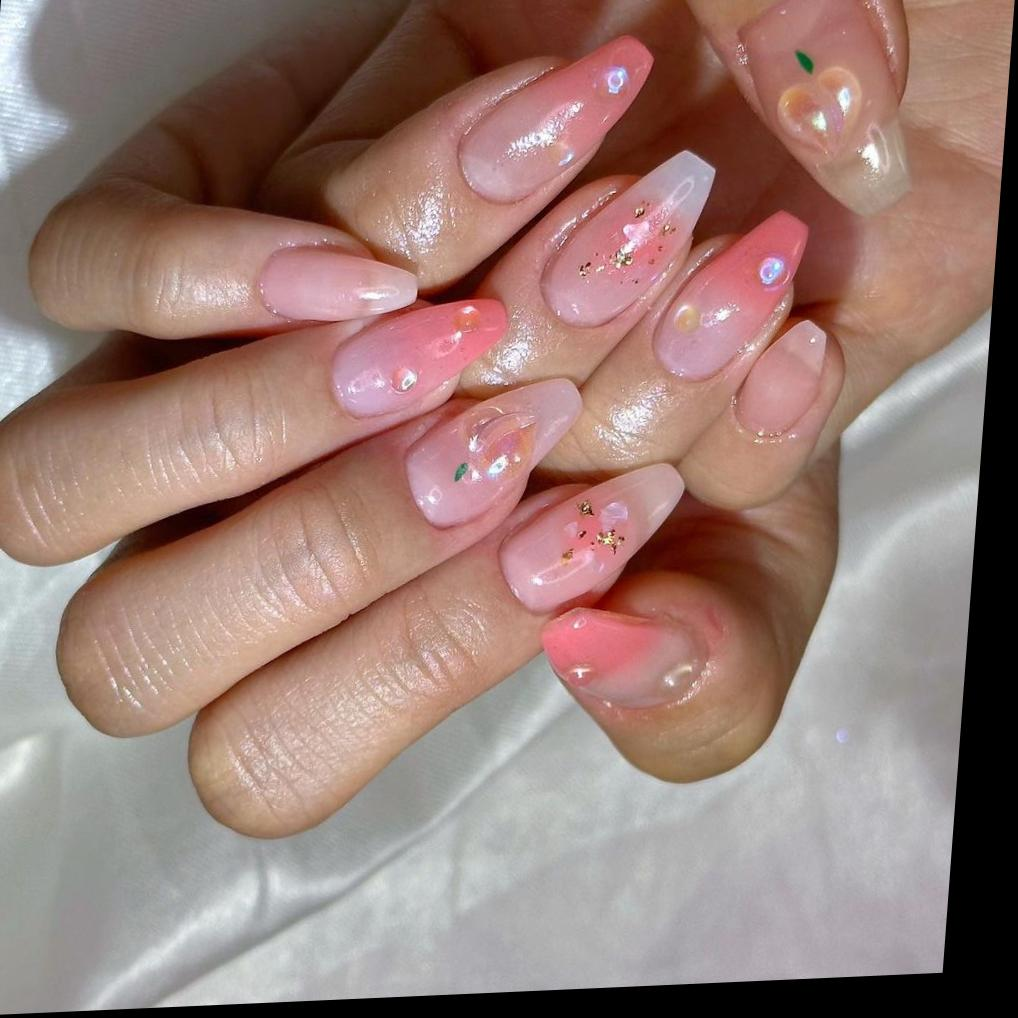nail: (719, 0, 926, 222), (453, 32, 657, 206), (536, 146, 719, 331), (494, 461, 688, 615), (398, 375, 586, 531), (648, 207, 812, 383), (326, 294, 511, 420), (534, 599, 712, 715), (255, 238, 423, 326), (729, 316, 832, 445)
